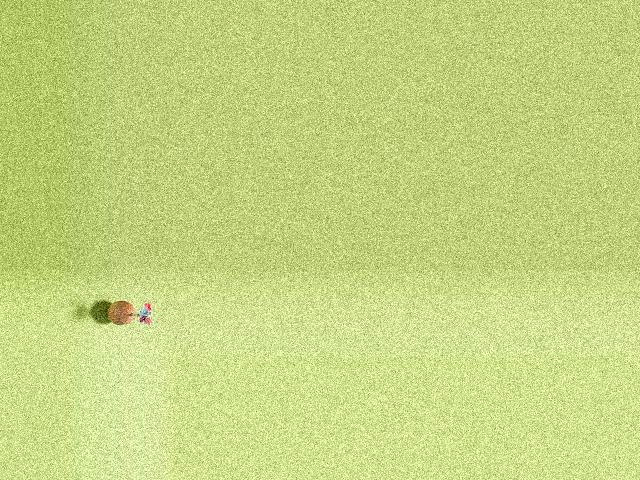egg: (107, 301, 135, 325)
